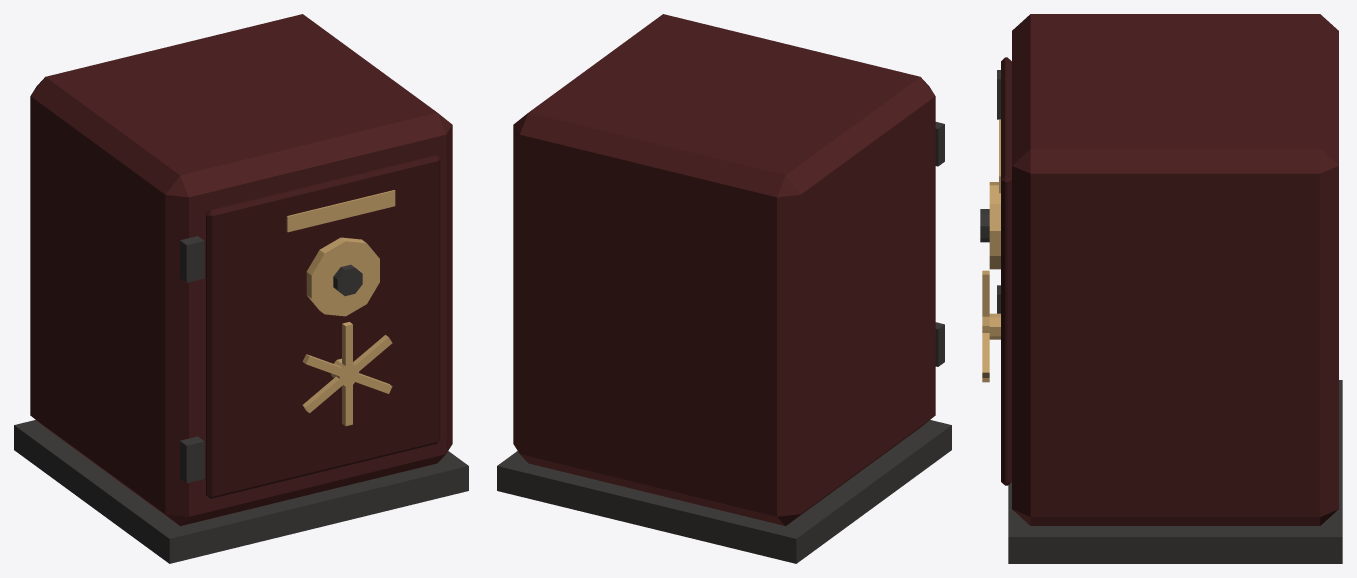
The picture shows the model from 3 angles, left to right: view 1: azimuth 30°, elevation 25°; view 2: azimuth 150°, elevation 25°; view 3: azimuth 270°, elevation 25°; orthographic projection. The views are drawn at different scales.
Visible parts, largest first — view 1: furniture_15_plant_epic_safe; view 2: furniture_15_plant_epic_safe; view 3: furniture_15_plant_epic_safe.
Boxes of the visible parts, x1,y1,x2,y2 form: furniture_15_plant_epic_safe: [14, 14, 468, 563]; furniture_15_plant_epic_safe: [497, 14, 951, 563]; furniture_15_plant_epic_safe: [980, 14, 1342, 563].
Bounding box in the file's own units: 1 × 1.2 × 0.975.
